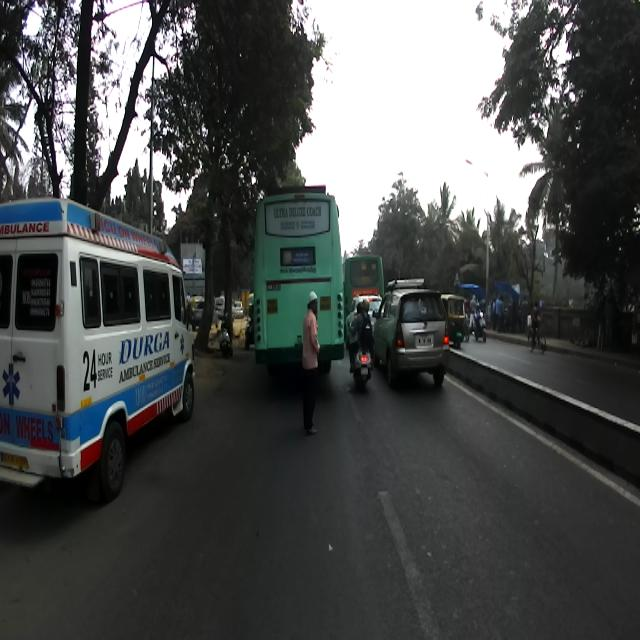bus ahead at: (0, 194, 199, 493), (256, 189, 345, 369)
car ahead at: (381, 271, 454, 395)
motorcycle ahead at: (212, 310, 234, 364)
person ahead at: (298, 285, 323, 436)
